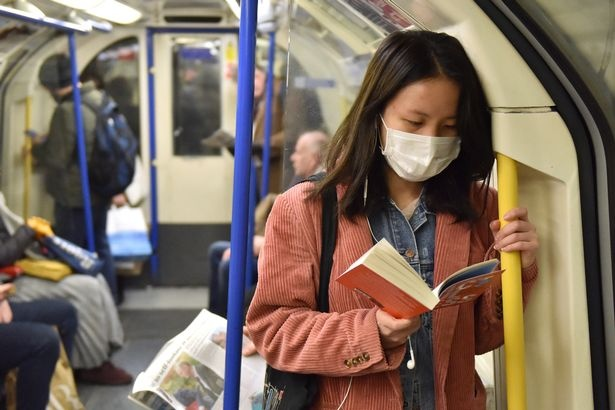with_mask: (371, 72, 468, 179)
